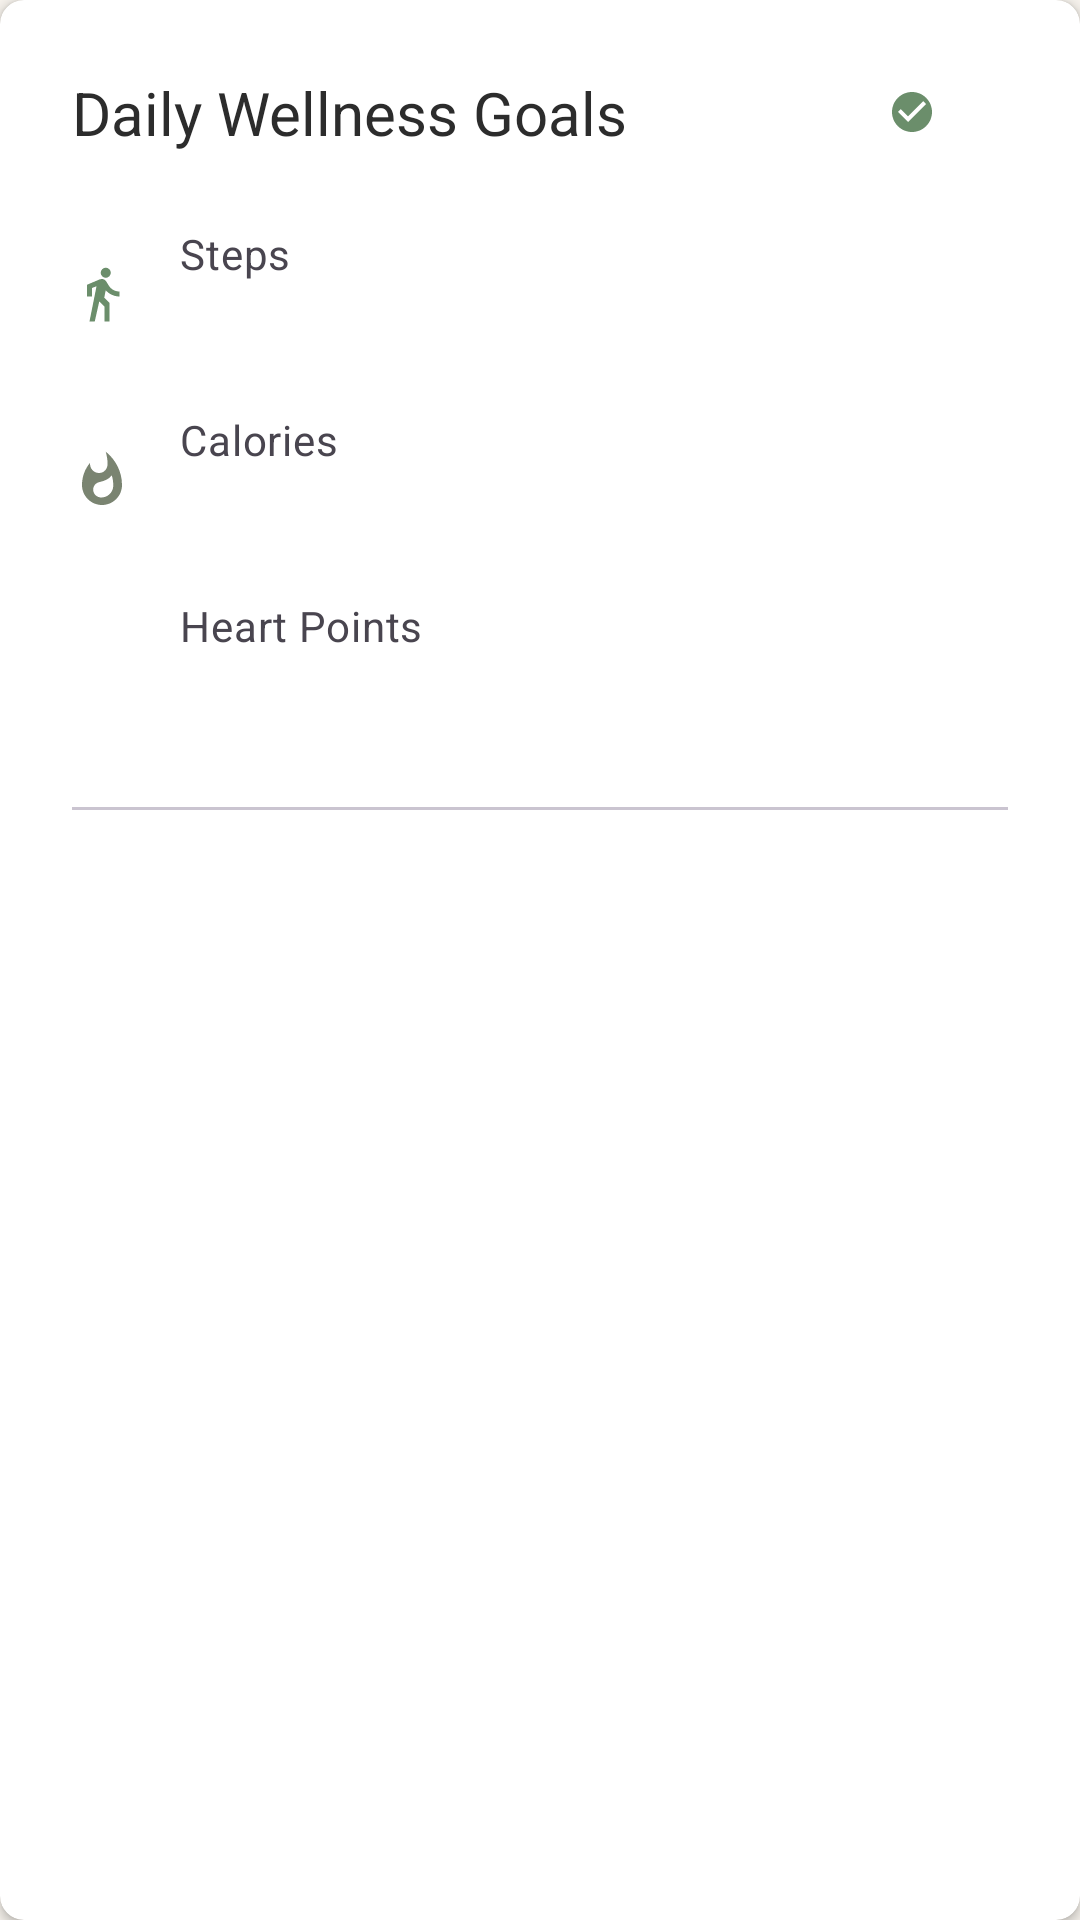

Named icons in this screenshot (1080px×1920px) and their centers, (x=x, y=y):
Goal validity indicator: (x=912, y=112)
